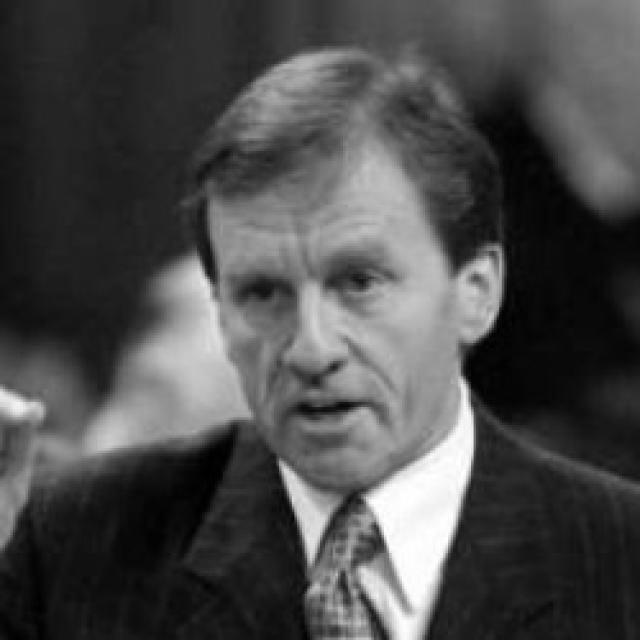real: (192, 61, 498, 474), (234, 272, 414, 333)
